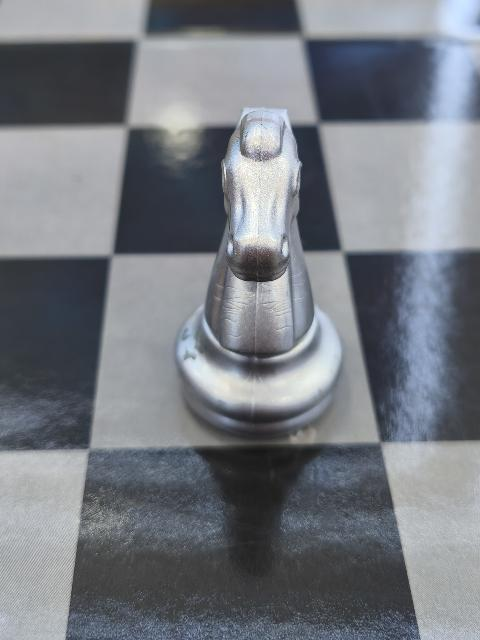white_knight: (178, 108, 343, 436)
